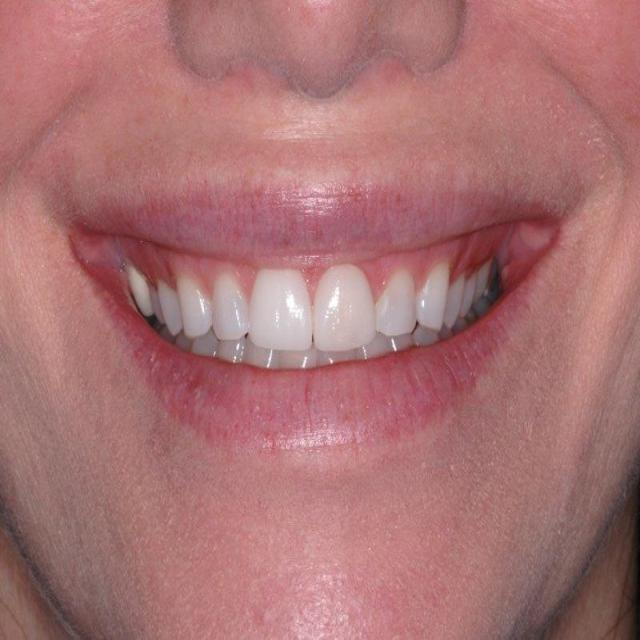tooth: (313, 267, 374, 357), (252, 265, 316, 350), (370, 266, 420, 335), (206, 274, 251, 336), (414, 259, 448, 331), (174, 273, 213, 333), (129, 270, 163, 328), (439, 274, 467, 322), (161, 279, 184, 333), (470, 260, 493, 314), (457, 268, 478, 322), (213, 334, 247, 366), (244, 344, 280, 369), (398, 330, 440, 349), (276, 352, 318, 370), (183, 340, 220, 359), (361, 333, 394, 352), (310, 350, 363, 359)
